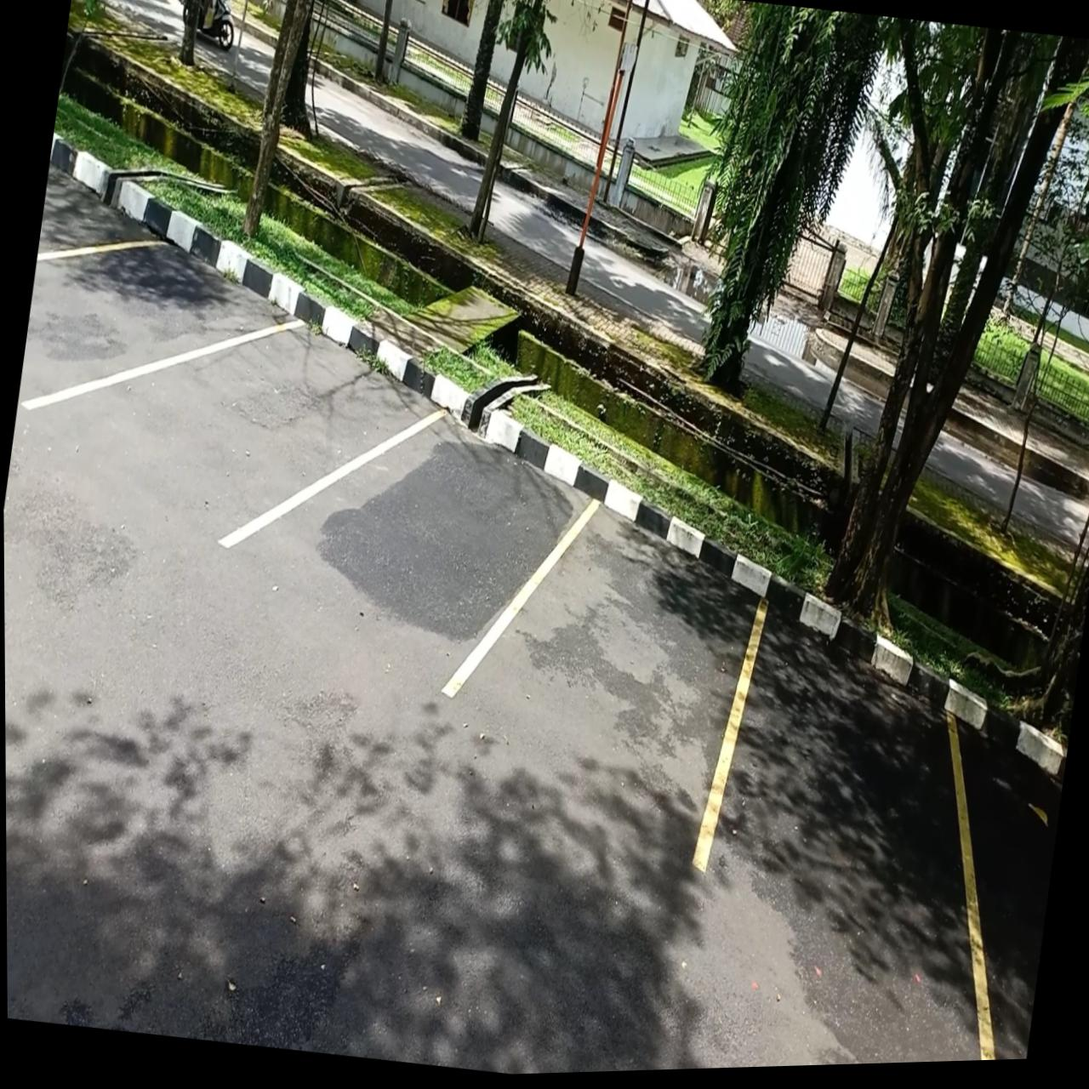empty: (700, 584, 989, 1061), (448, 492, 767, 863), (225, 403, 602, 690), (30, 315, 454, 545), (30, 236, 311, 405)
